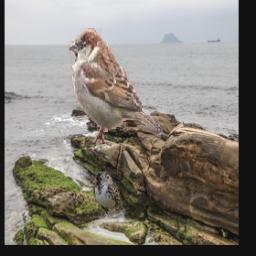Sparrow: (69, 29, 164, 145), (93, 171, 123, 216)
